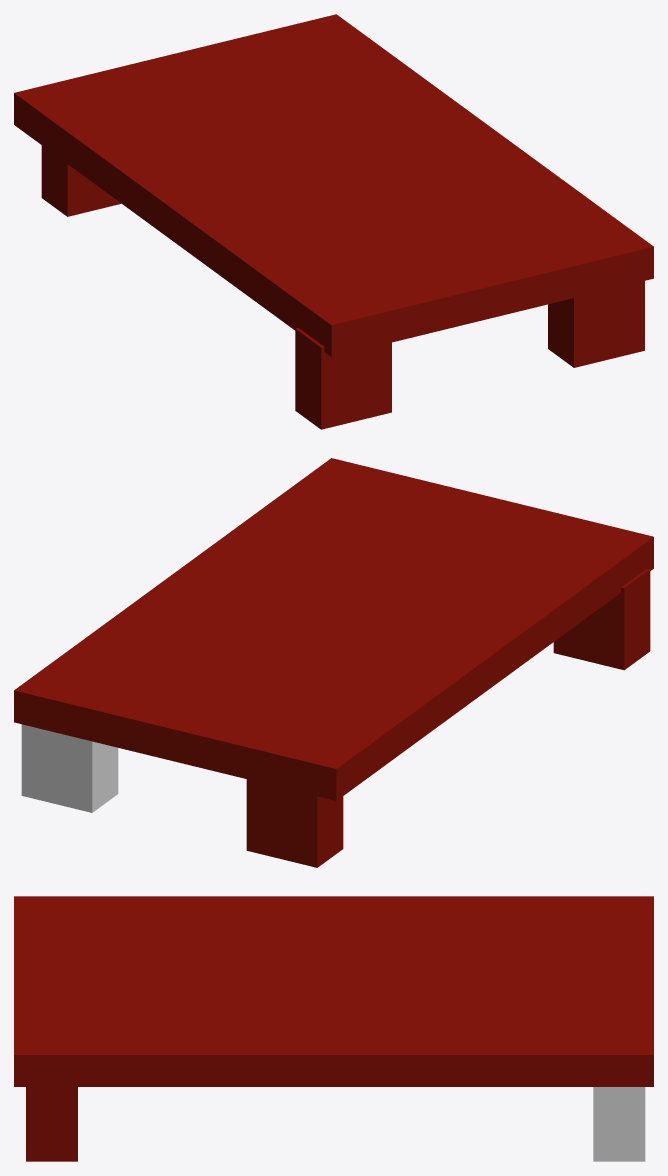
File: GKVtable.fbx
3 views of the same model, one above another, from view 1: azimuth 30°, elevation 25°; view 2: azimuth 150°, elevation 25°; view 3: azimuth 270°, elevation 25° (orthographic).
Visible parts, largest first — view 1: Cube.191; view 2: Cube.191; view 3: Cube.191.
Boxes of the visible parts, x1,y1,x2,y2 form: Cube.191: [14, 14, 653, 429]; Cube.191: [14, 458, 653, 867]; Cube.191: [14, 896, 653, 1161].
Size of the model in its own units: 399 by 127 by 674.
